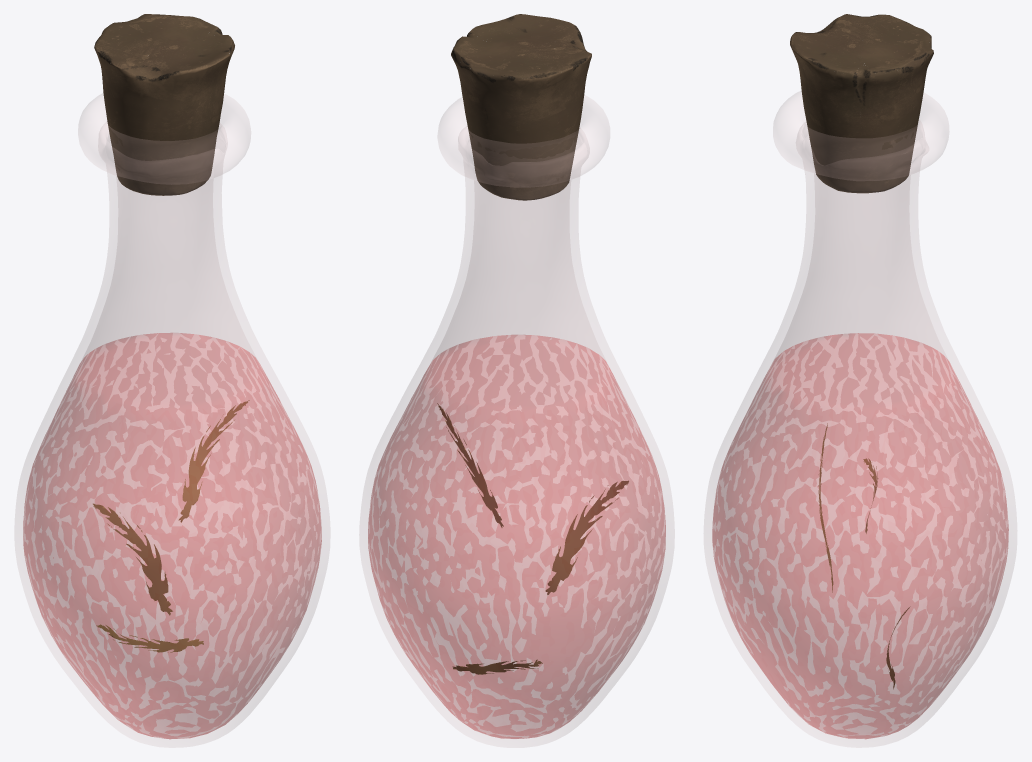
The model's file is Botella_2.obj.
3 views of the same model, side by side, from view 1: azimuth 30°, elevation 25°; view 2: azimuth 150°, elevation 25°; view 3: azimuth 270°, elevation 25° (orthographic).
Bounding box in the file's own units: 0.6391 × 1.54 × 0.638.
